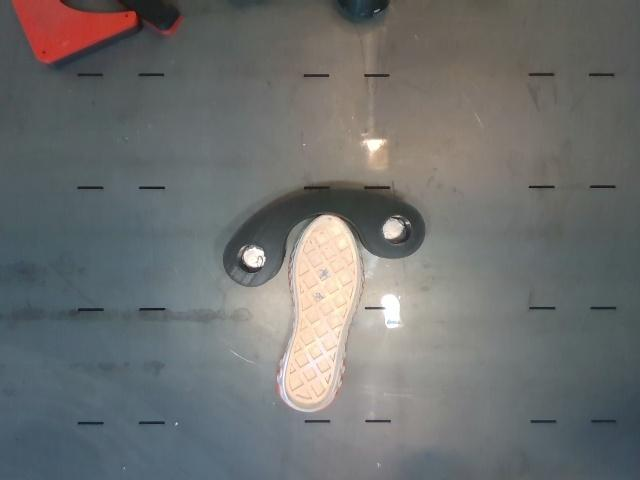shoes: (284, 217, 359, 411)
